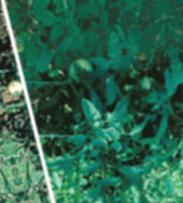Tomato leaf bacterial spot: (74, 89, 105, 130), (96, 26, 128, 65), (147, 110, 176, 151), (117, 156, 146, 187), (159, 62, 183, 93)
